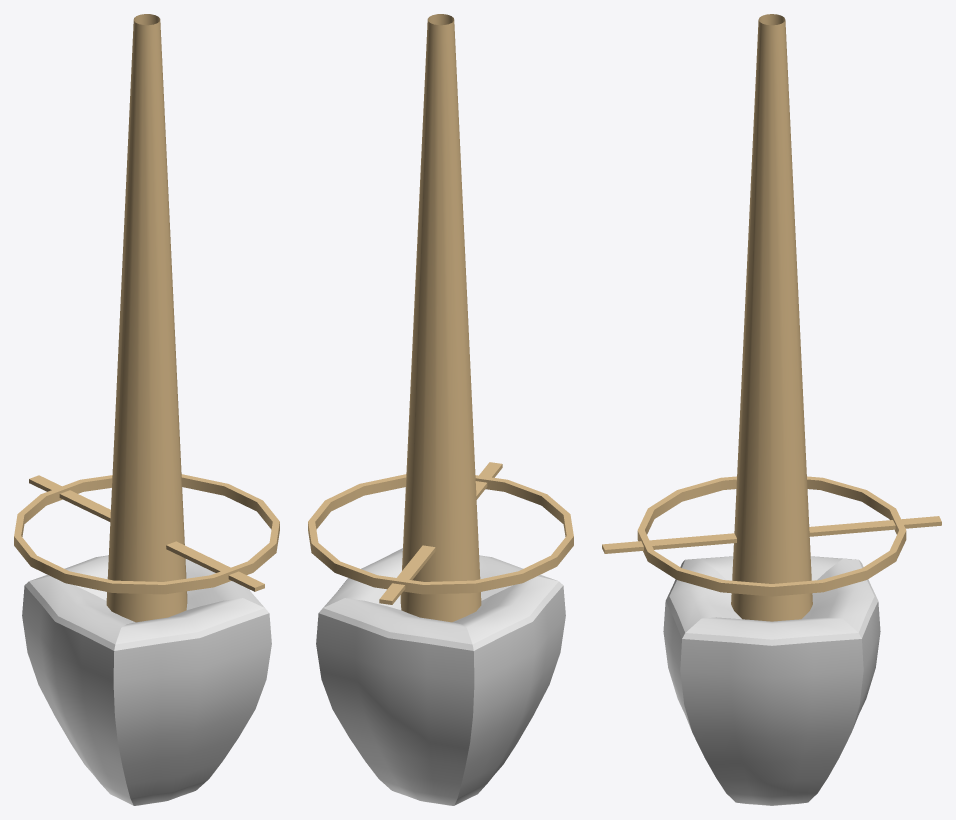
File: BulbLampLarge.fbx
The picture shows the model from 3 angles, left to right: view 1: azimuth 30°, elevation 25°; view 2: azimuth 150°, elevation 25°; view 3: azimuth 270°, elevation 25°; orthographic projection.
Visible parts, largest first — view 1: BulbLampLarge; view 2: BulbLampLarge; view 3: BulbLampLarge.
Part boxes in pixels (x1,y1,x2,y2): BulbLampLarge: [14, 14, 279, 805]; BulbLampLarge: [308, 14, 573, 805]; BulbLampLarge: [602, 14, 941, 805].
Size of the model in its own units: 0.3469 by 0.4384 by 1.11.
